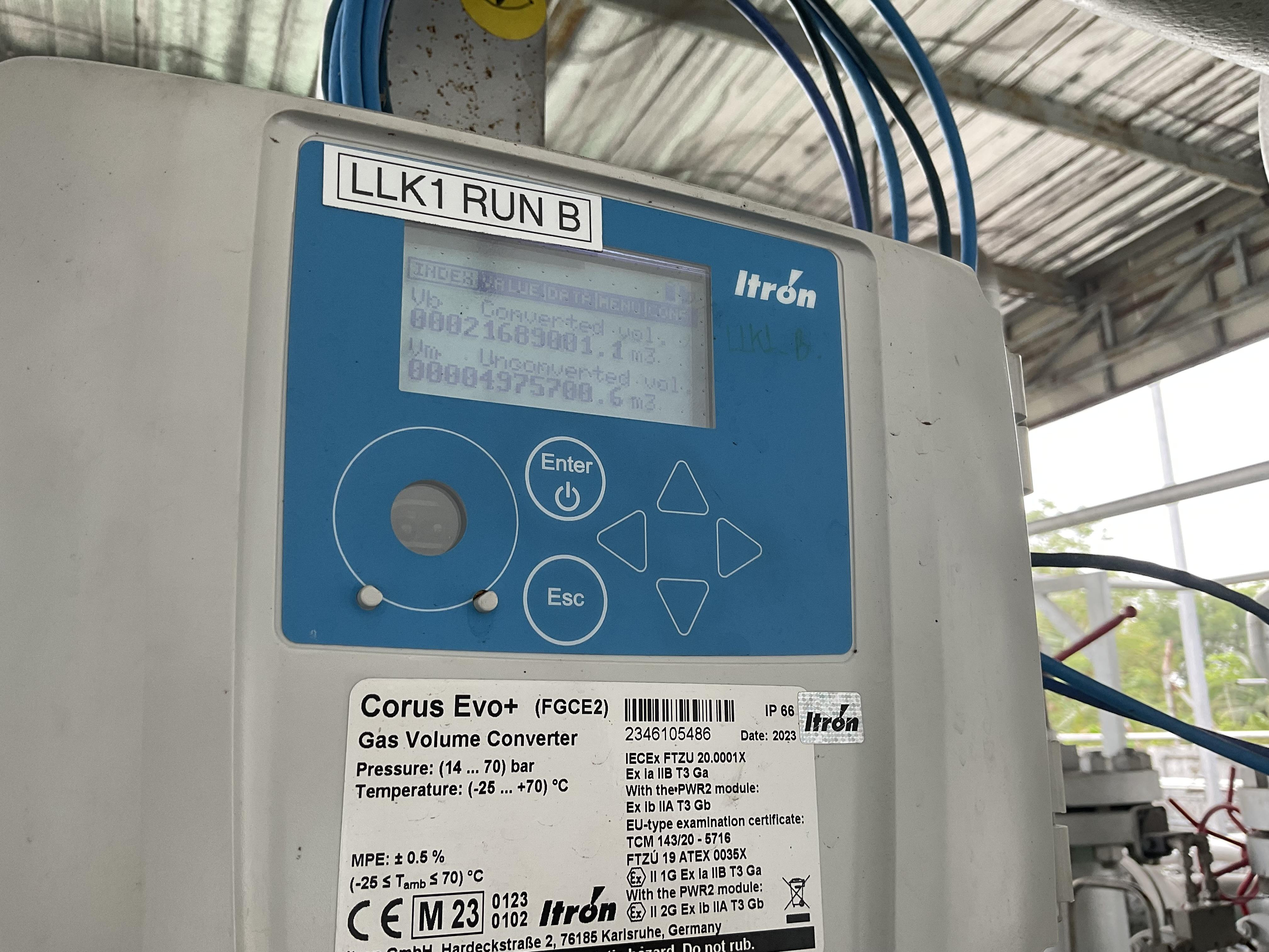digital_screen: (384, 215, 736, 429)
